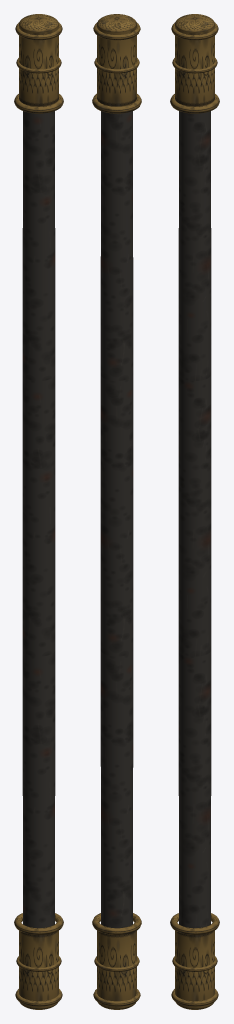
The model's file is niumo_staff.glb.
The picture shows the model from 3 angles, left to right: view 1: azimuth 90°, elevation 25°; view 2: azimuth 150°, elevation 25°; view 3: azimuth 270°, elevation 25°; orthographic projection.
Size of the model in its own units: 0.088 by 1.92 by 0.088.
11 materials, 11 textured.
